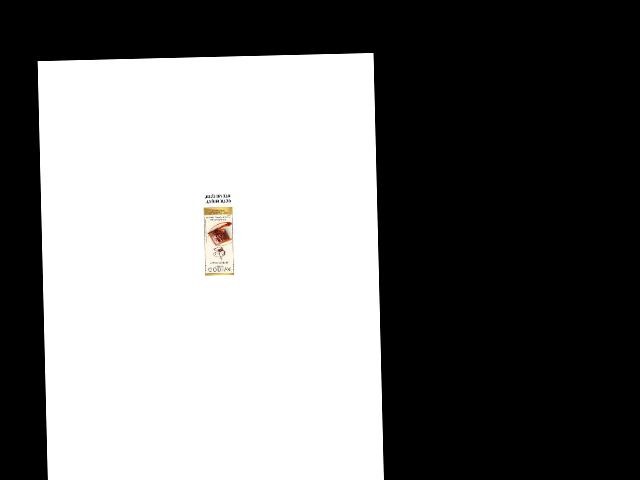chocolate: (204, 204, 236, 277)
